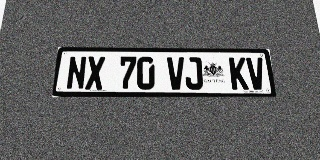0: (137, 57, 154, 90)
7: (118, 57, 137, 90)
J: (184, 57, 203, 90)
K: (229, 57, 249, 90)
N: (66, 56, 87, 90)
V: (246, 57, 266, 90), (167, 57, 185, 90)
X: (85, 56, 105, 90)
